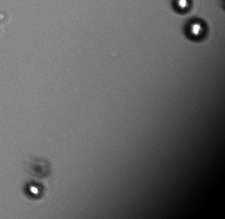Dead Cell: (27, 158, 52, 179)
Living Cell: (182, 16, 211, 43), (23, 180, 46, 199), (168, 1, 195, 15)
